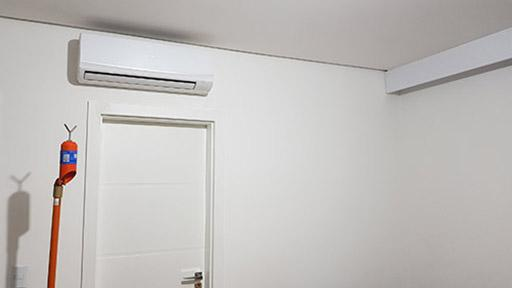Detector_Tensao_Contato: (58, 123, 79, 187)
Vara_Manobra: (46, 182, 64, 288)
